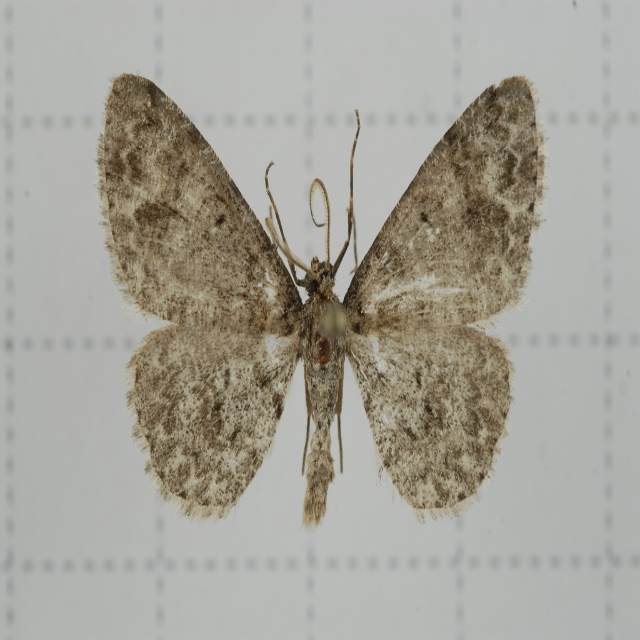Butterfly: (87, 74, 550, 550)
